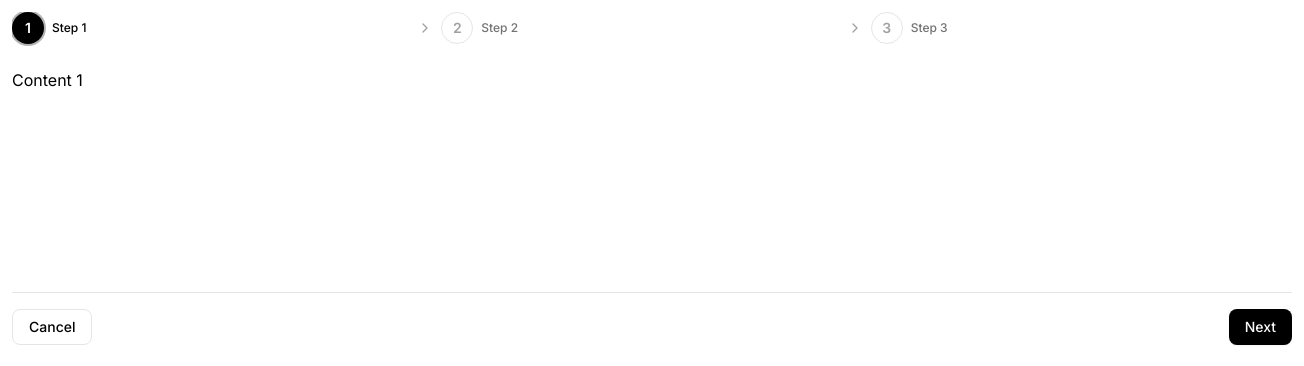
Test case: FormWizard › goes back on Back
Click the button "Next": (1260, 327) [1229,309,1292,345]
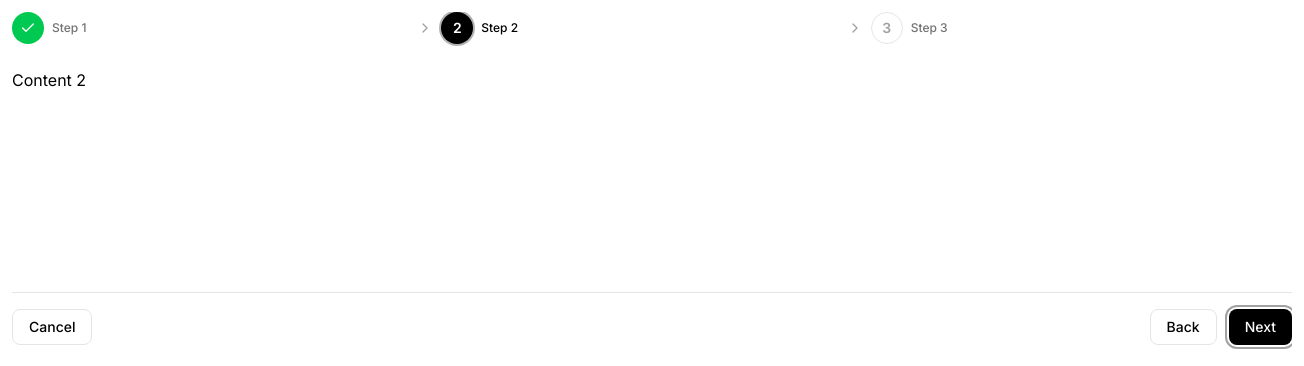
Now the text "Content 2" is shown, box [12,70,86,90]
Click the button "Back": (1183, 327) [1150,309,1217,345]
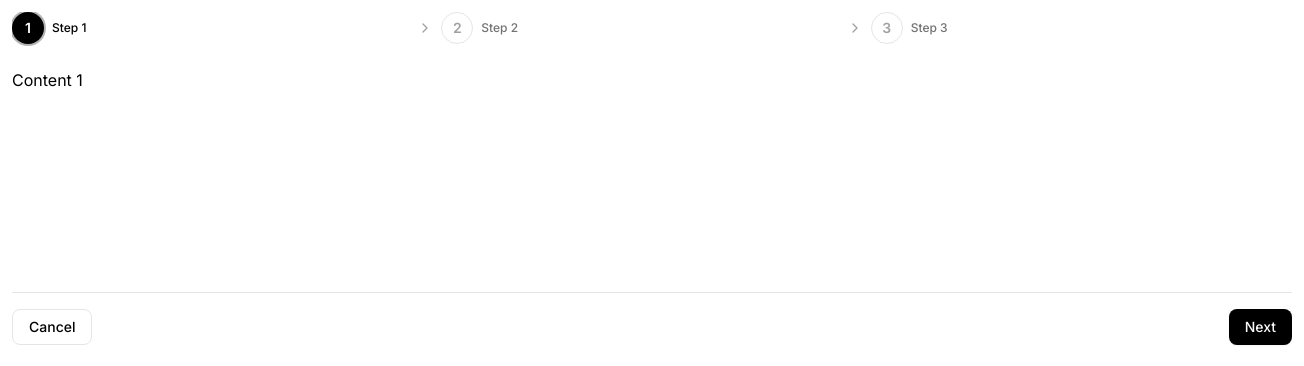
Now the text "Content 1" is shown, box [12,70,83,90]
